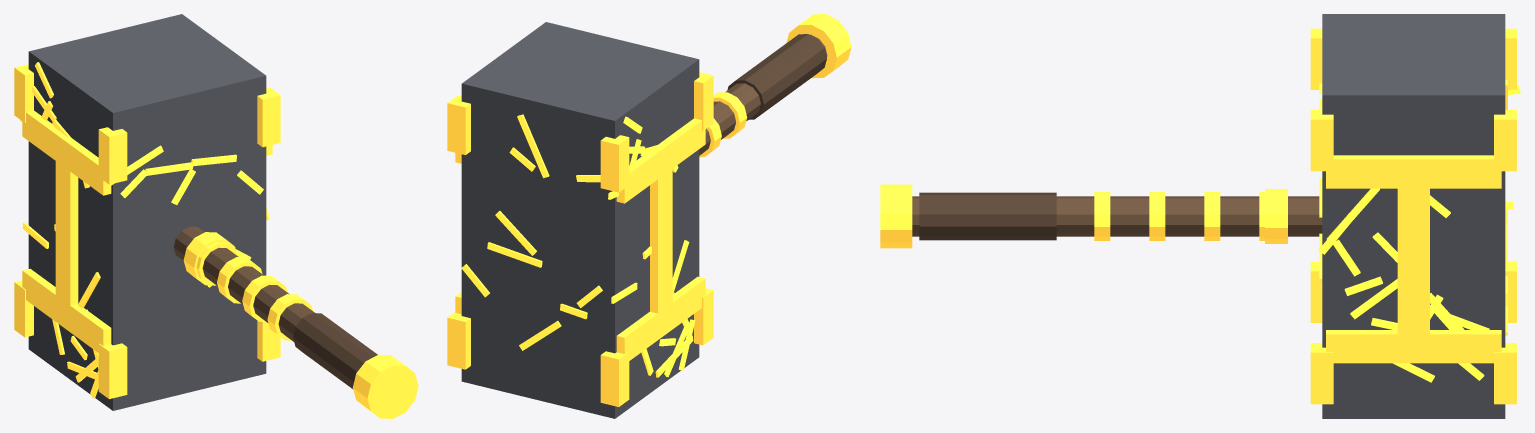
Rendered from earthshaker.glb.
3 views of the same model, side by side, from view 1: azimuth 30°, elevation 25°; view 2: azimuth 150°, elevation 25°; view 3: azimuth 270°, elevation 25° (orthographic). The views are drawn at different scales.
Visible parts, largest first — view 1: Head, Handle; view 2: Head, Handle; view 3: Head, Handle.
Boxes of the visible parts, x1,y1,x2,y2 form: Head: (14, 14, 280, 410); Handle: (173, 226, 418, 418); Head: (447, 22, 713, 418); Handle: (699, 14, 851, 157); Head: (1310, 14, 1520, 418); Handle: (880, 184, 1322, 248).
Size of the model in its own units: 0.47 by 0.78 by 1.4.
